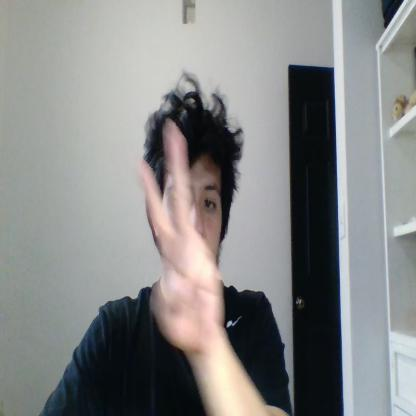V: (140, 119, 224, 350)
